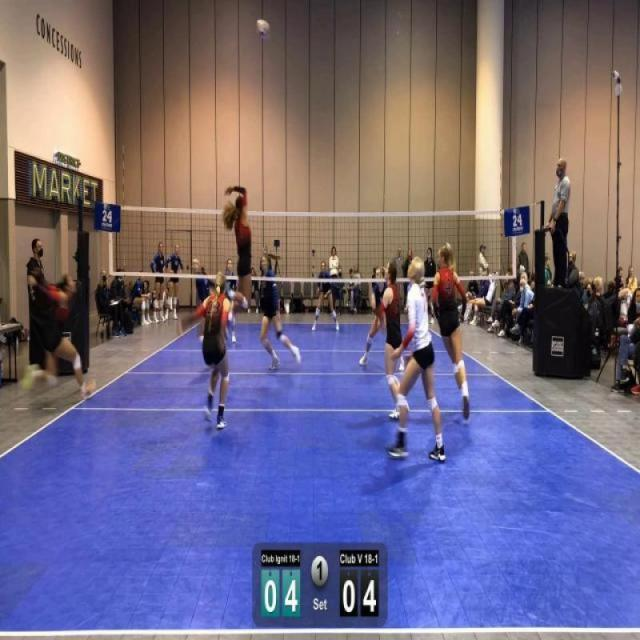volleyball: (256, 18, 272, 38)
